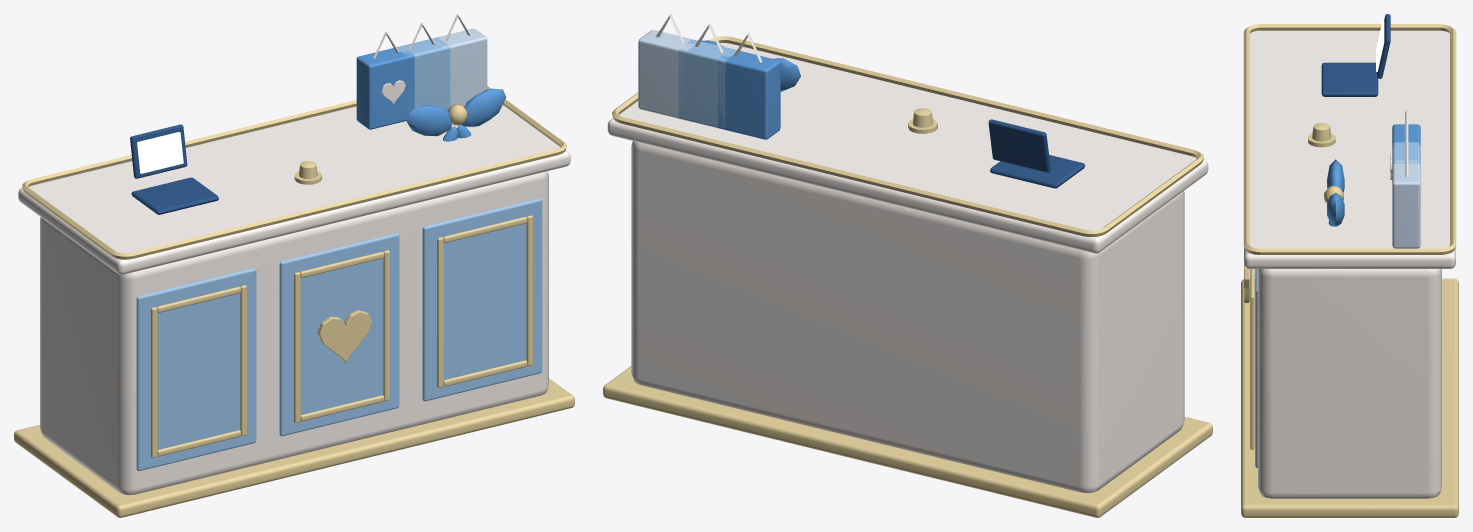
The model's file is checkout_counter.glb.
3 views of the same model, side by side, from view 1: azimuth 30°, elevation 25°; view 2: azimuth 150°, elevation 25°; view 3: azimuth 270°, elevation 25° (orthographic). The views are drawn at different scales.
Visible parts, largest first — view 1: checkout_counter; view 2: checkout_counter; view 3: checkout_counter.
Boxes of the visible parts, bbox=[...] form: checkout_counter: bbox=[14, 14, 574, 517]; checkout_counter: bbox=[603, 14, 1212, 517]; checkout_counter: bbox=[1241, 14, 1458, 517].
Size of the model in its own units: 1.92 by 1.38 by 0.77.
